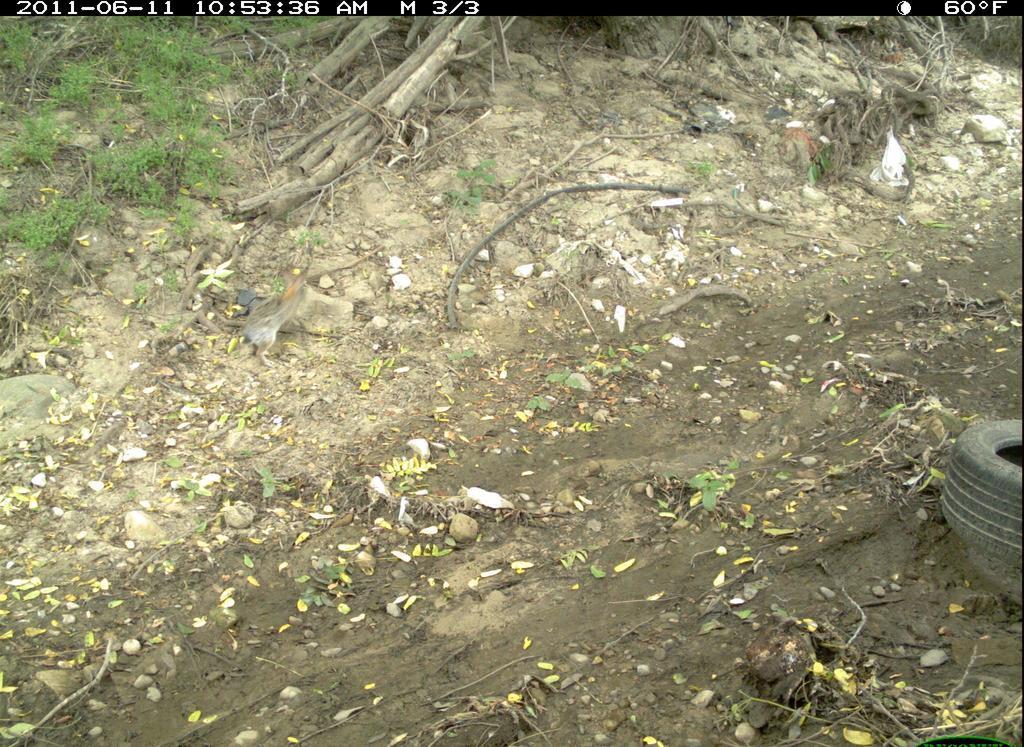squirrel: (214, 254, 340, 386)
